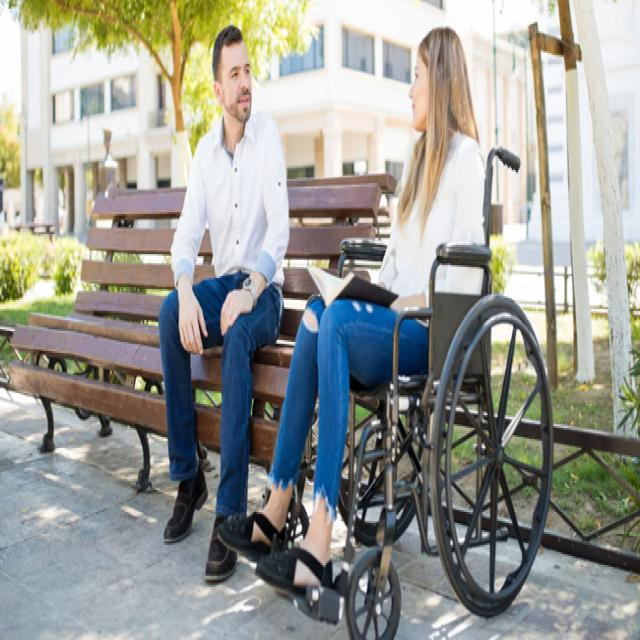wheelchairs: (238, 140, 561, 640)
